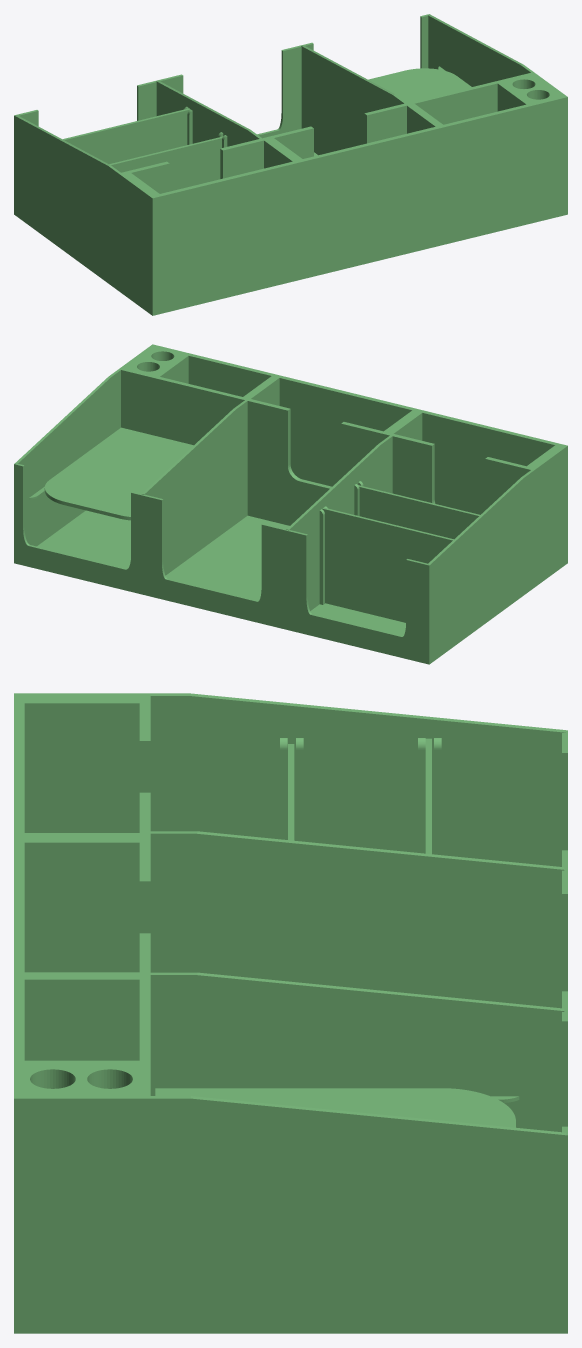
File: card_caddy_max.glb
3 views of the same model, one above another, from view 1: azimuth 30°, elevation 25°; view 2: azimuth 150°, elevation 25°; view 3: azimuth 270°, elevation 25° (orthographic). The views are drawn at different scales.
Visible parts, largest first — view 1: Mesh_Mesh_head_geo.001_lambert2SG.001; view 2: Mesh_Mesh_head_geo.001_lambert2SG.001; view 3: Mesh_Mesh_head_geo.001_lambert2SG.001.
Boxes of the visible parts, box(x1,y1,x2,y2) form: Mesh_Mesh_head_geo.001_lambert2SG.001: box(14, 14, 567, 315); Mesh_Mesh_head_geo.001_lambert2SG.001: box(14, 344, 567, 664); Mesh_Mesh_head_geo.001_lambert2SG.001: box(14, 693, 567, 1333).
Bounding box in the file's own units: 250 × 67.6 × 144.
